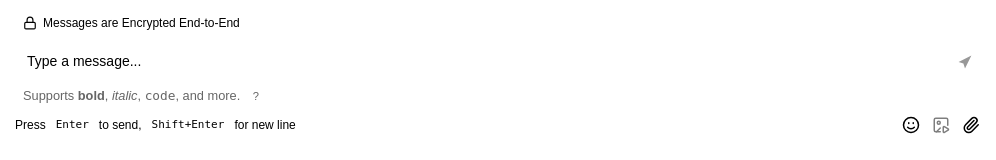
it: MessageInput › shows the counter from 75% of maxLength and not below it
Type "12345678901234" into the text box at (484, 62), box [27,45,941,79]
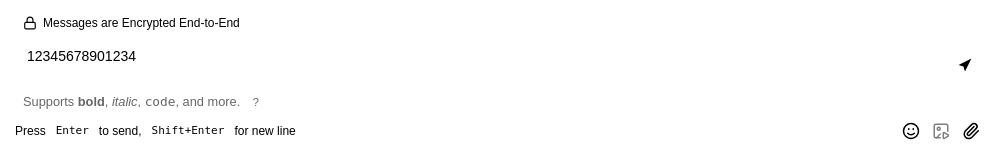
Type "5" into the text box at (484, 65), box [27,40,941,90]
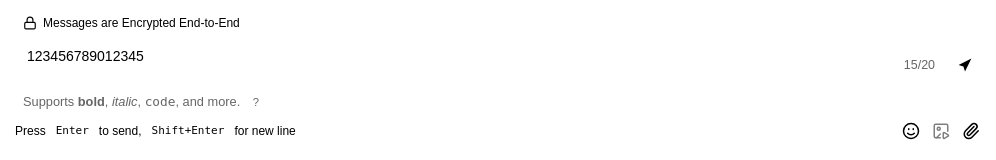
Result: the text "15/20" is shown at [904,58,935,72]
